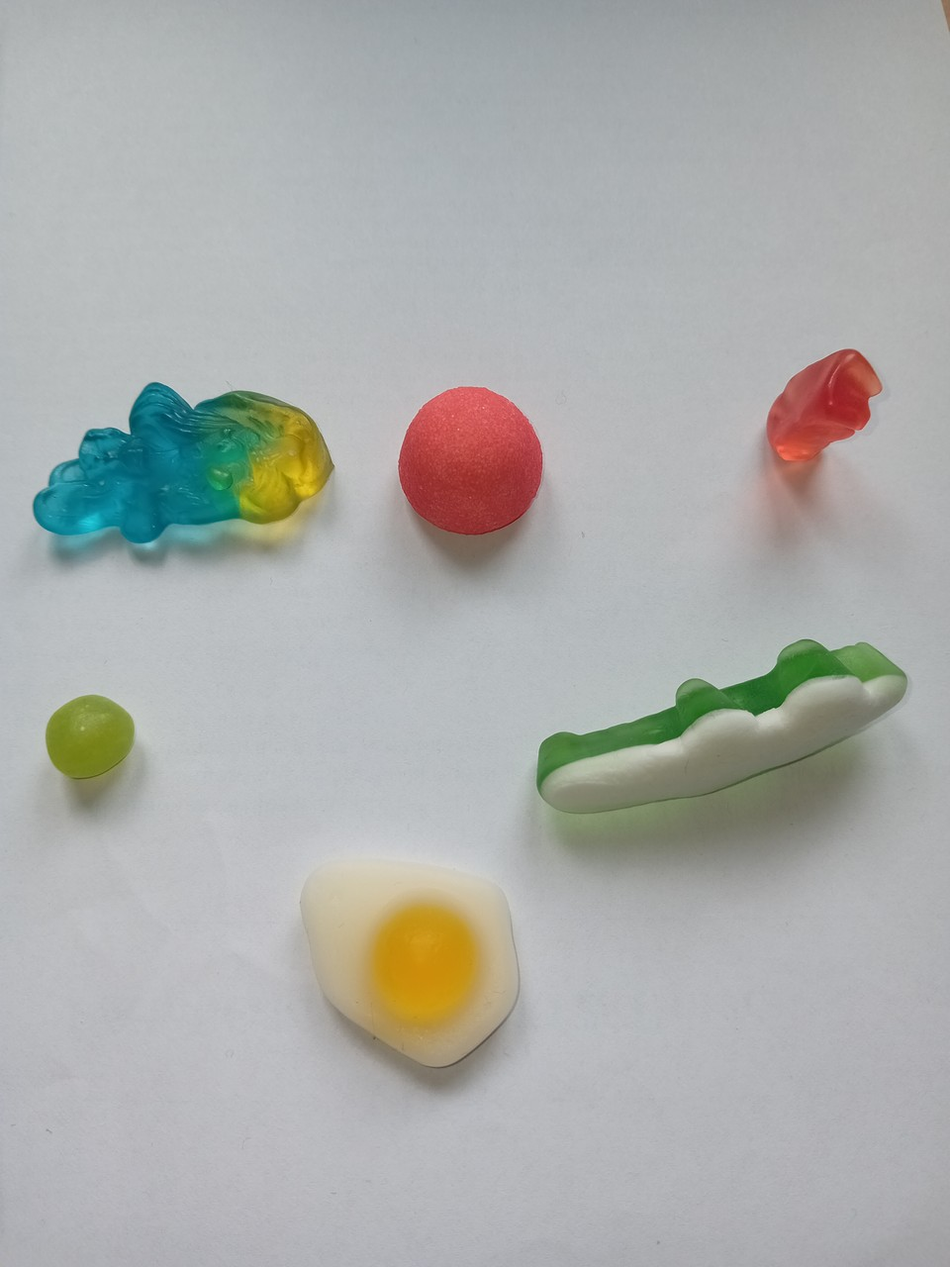crocodile_vert: (529, 628, 912, 815)
dragibus_vert: (36, 693, 146, 783)
oeuf_oeuf: (290, 851, 525, 1076)
ourson_orangeFonce: (763, 344, 885, 477)
schtroumpf_bleu-jaune: (29, 376, 335, 553)
tagada_fraise: (389, 385, 552, 535)
